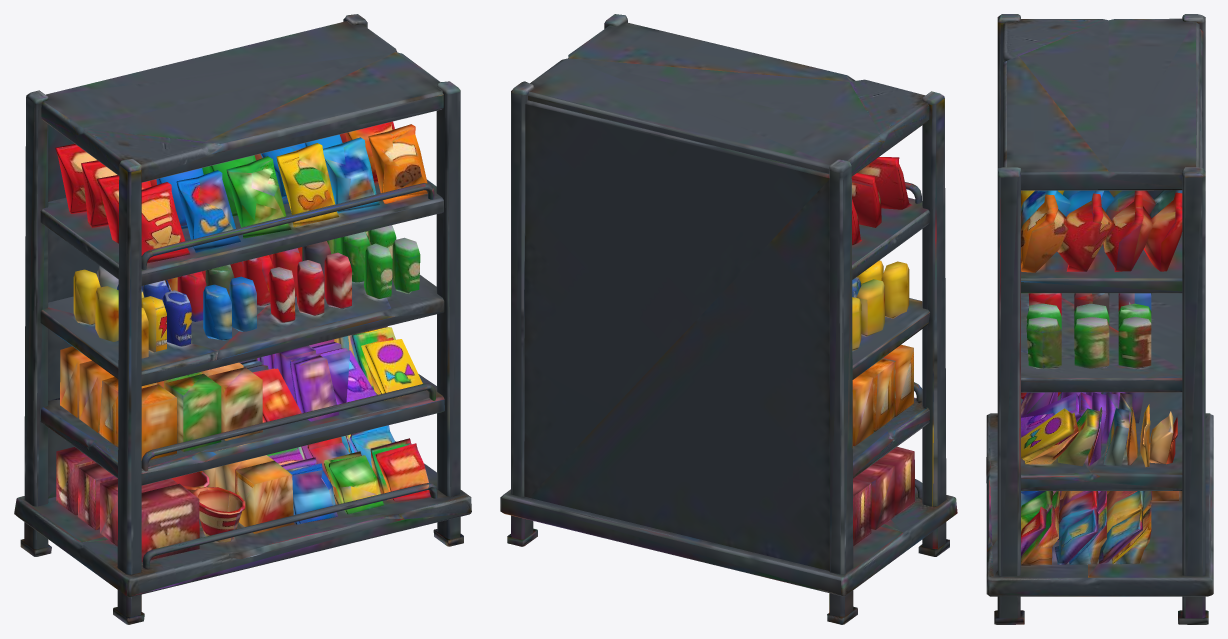
The model's file is shelf.glb.
The picture shows the model from 3 angles, left to right: view 1: azimuth 30°, elevation 25°; view 2: azimuth 150°, elevation 25°; view 3: azimuth 270°, elevation 25°; orthographic projection.
Visible parts, largest first — view 1: shelf; view 2: shelf; view 3: shelf.
Part boxes in pixels (<box>): shelf: <box>14,14,471,624</box>; shelf: <box>500,14,957,624</box>; shelf: <box>986,14,1213,624</box>.
Size of the model in its own units: 0.94 by 1.18 by 0.5396.
Materials: 1 (1 with a texture image).
